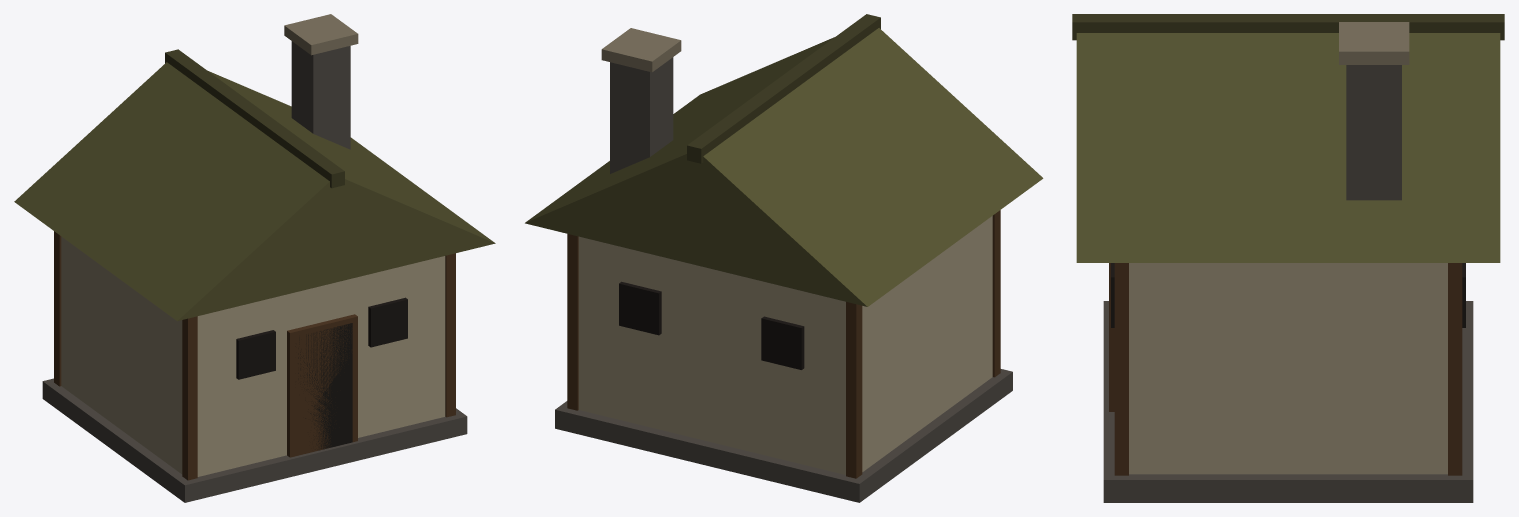
The model's file is house_small.glb.
3 views of the same model, side by side, from view 1: azimuth 30°, elevation 25°; view 2: azimuth 150°, elevation 25°; view 3: azimuth 270°, elevation 25° (orthographic). The views are drawn at different scales.
Visible parts, largest first — view 1: house_small; view 2: house_small; view 3: house_small.
Boxes of the visible parts, x1,y1,x2,y2 form: house_small: (14, 14, 495, 502); house_small: (525, 14, 1043, 502); house_small: (1072, 14, 1504, 502).
Bounding box in the file's own units: 5.3 × 5.38 × 4.8.
